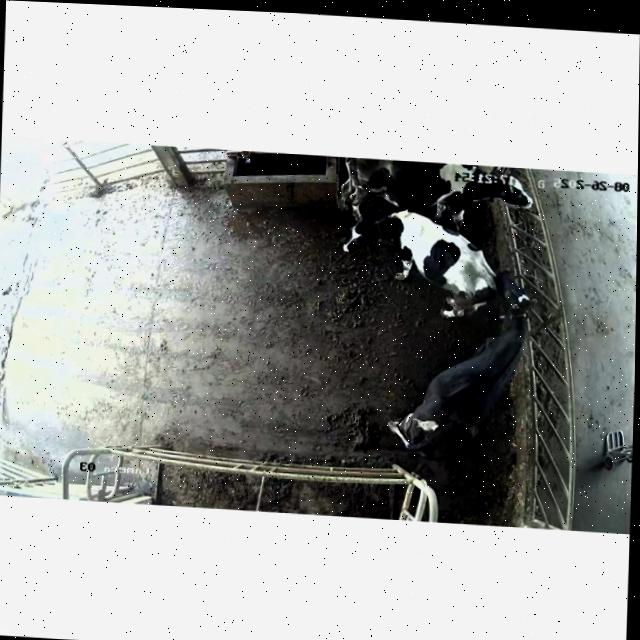stand: (388, 260, 529, 462), (332, 203, 502, 321)
